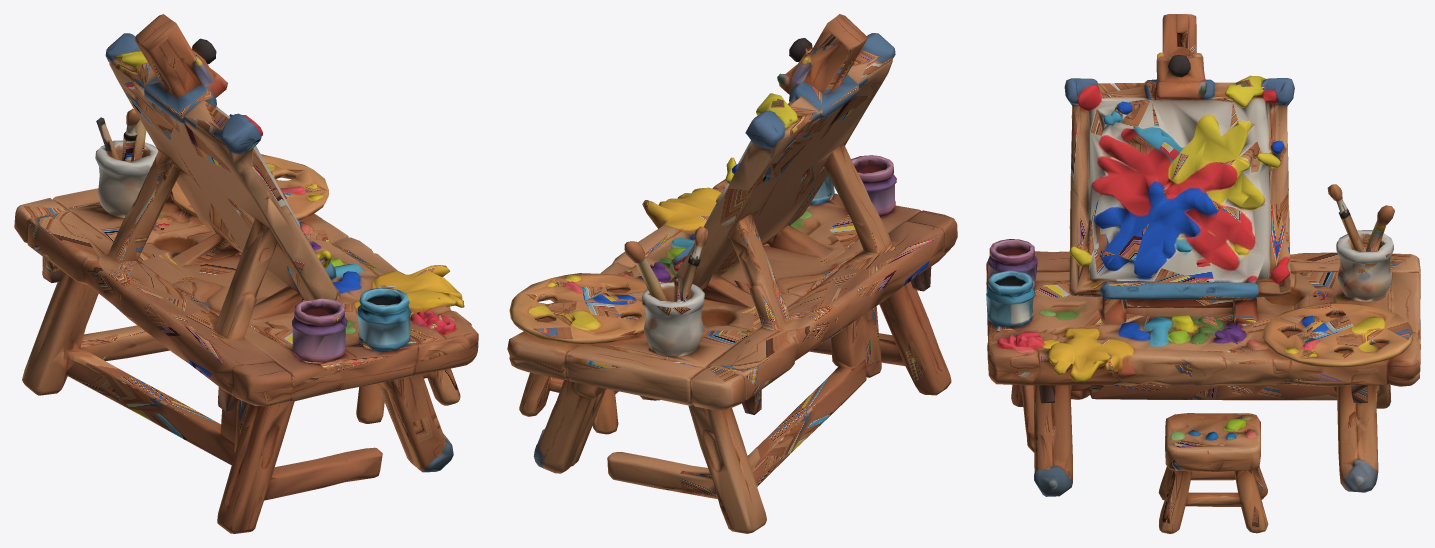
File: painter-workstation-01-web.glb
3 views of the same model, side by side, from view 1: azimuth 30°, elevation 25°; view 2: azimuth 150°, elevation 25°; view 3: azimuth 270°, elevation 25° (orthographic). The views are drawn at different scales.
Visible parts, largest first — view 1: part-0; view 2: part-0; view 3: part-0.
Part boxes in pixels (bbox=[...]): part-0: bbox=[14, 14, 478, 533]; part-0: bbox=[507, 14, 957, 533]; part-0: bbox=[986, 14, 1420, 533].
Bounding box in the file's own units: 0.7408 × 0.9995 × 0.9862.
1 material, 1 textured.
